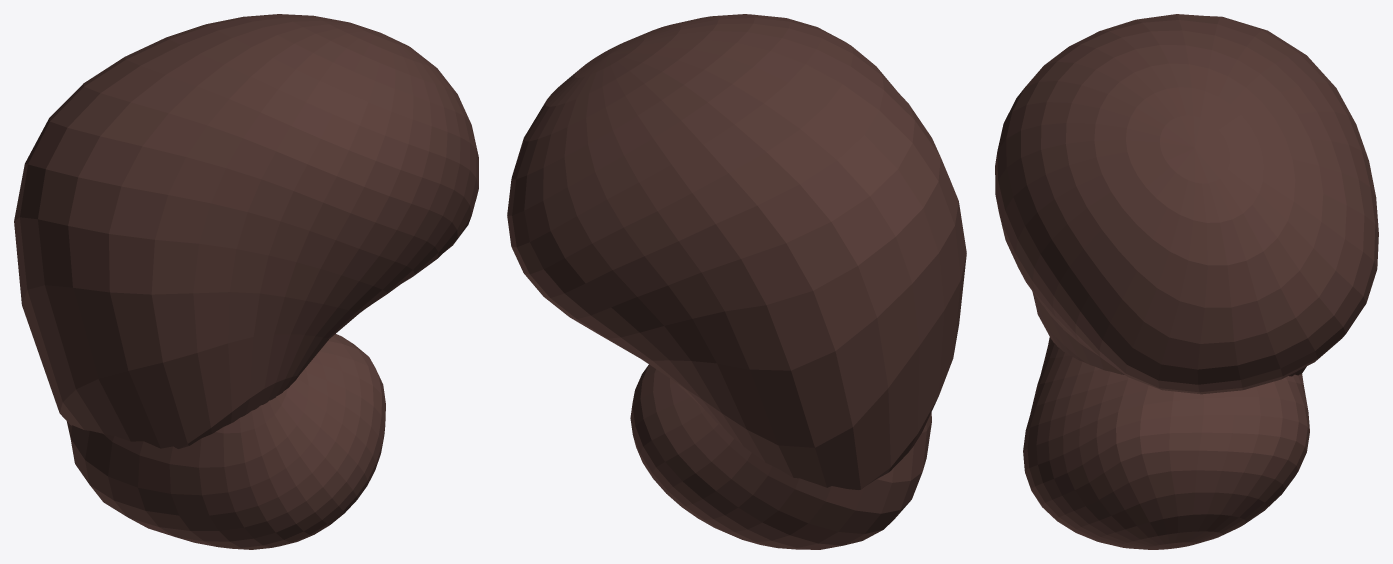
File: head.fbx
The picture shows the model from 3 angles, left to right: view 1: azimuth 30°, elevation 25°; view 2: azimuth 150°, elevation 25°; view 3: azimuth 270°, elevation 25°; orthographic projection. The views are drawn at different scales.
Visible parts, largest first — view 1: Sphere.005; view 2: Sphere.005; view 3: Sphere.005.
Part boxes in pixels (x1=…): Sphere.005: x1=14, y1=14, x2=478, y2=549; Sphere.005: x1=507, y1=14, x2=966, y2=549; Sphere.005: x1=995, y1=14, x2=1378, y2=549.
Bounding box in the file's own units: 417 × 472 × 323.
